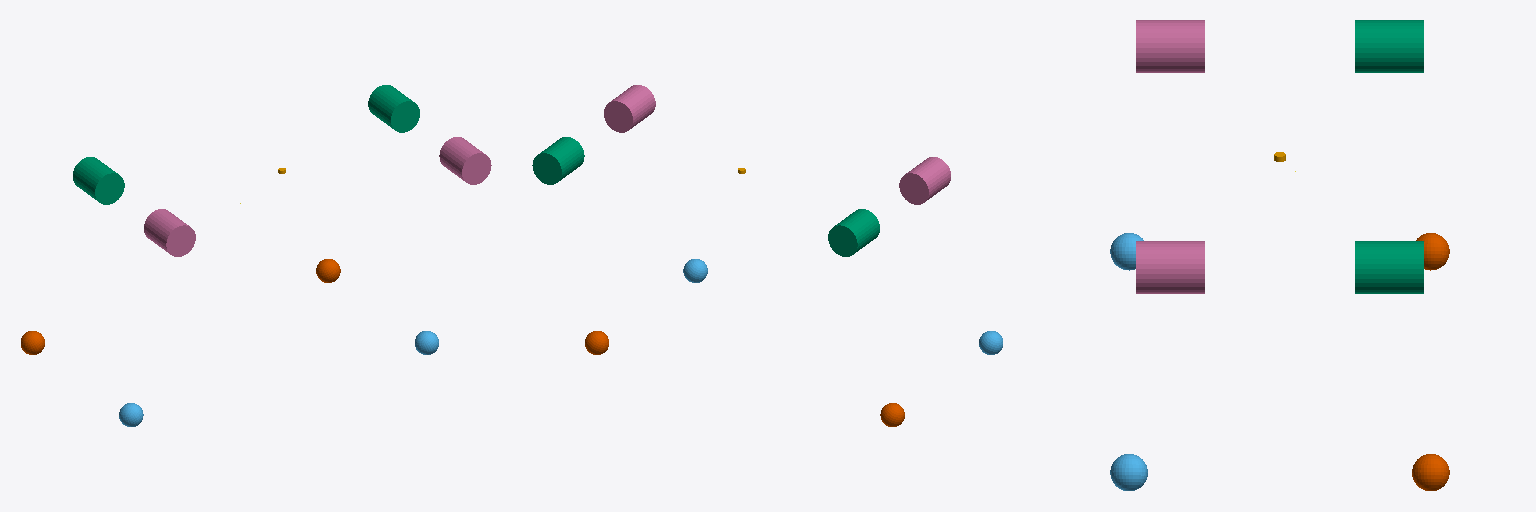
--- What the picture shows (computed from the rendered views, not written in the file) ---
Views: 3 orthographic renders of the robot side by side, from view 1: azimuth 30°, elevation 25°; view 2: azimuth 150°, elevation 25°; view 3: azimuth 270°, elevation 25°.
Robot: hyqreal — 43 links, 42 joints (12 revolute, 30 fixed); root link base_link; default pose: all joints at 0 but 8 set to mid-range because 0 is outside their limits (lf_hfe_joint = 1.22, lf_kfe_joint = -1.72, rf_hfe_joint = 1.22, rf_kfe_joint = -1.72, lh_hfe_joint = 1.22, lh_kfe_joint = -1.72, +2 more).
Links seen in each view (by area): view 1: rh_hipassembly, lf_hipassembly, rf_hipassembly, lh_hipassembly; view 2: lh_hipassembly, rf_hipassembly, lf_hipassembly, rh_hipassembly; view 3: lf_hipassembly, rf_hipassembly, lh_hipassembly, rh_hipassembly, lf_foot, rf_foot, lh_foot, rh_foot.
Link boxes in pixels (x1,y1,x2,y2): rh_hipassembly: [144, 209, 195, 256]; lf_hipassembly: [368, 85, 419, 132]; rf_hipassembly: [439, 137, 491, 184]; lh_hipassembly: [73, 157, 124, 204]; lh_hipassembly: [828, 209, 879, 256]; rf_hipassembly: [604, 85, 655, 132]; lf_hipassembly: [532, 137, 584, 184]; rh_hipassembly: [899, 157, 950, 204]; lf_hipassembly: [1355, 241, 1423, 293]; rf_hipassembly: [1136, 241, 1204, 293]; lh_hipassembly: [1355, 20, 1423, 72]; rh_hipassembly: [1136, 20, 1204, 72]; lf_foot: [1412, 454, 1449, 490]; rf_foot: [1110, 454, 1147, 490]; lh_foot: [1416, 233, 1449, 270]; rh_foot: [1110, 233, 1143, 270].
Bounding box of the posed robot: 1.12 × 0.576 × 0.5332 m (x, y, z).
Geometry: primitives only (box / cylinder / sphere), no mesh files.

The robot description file, URDF, robot "hyqreal":
<?xml version="1.0" ?>
<!-- =================================================================================== -->
<!-- |    This document was autogenerated by xacro from hyqreal.urdf.xacro             | -->
<!-- |    EDITING THIS FILE BY HAND IS NOT RECOMMENDED                                 | -->
<!-- =================================================================================== -->
<robot name="hyqreal" xmlns:xacro="http://ros.org/wiki/xacro">
  <!-- standard distances -->
  <!-- <xacro:property name="d_lr" value="0.414"/>
	<xacro:property name="d_fh" value="0.747"/> -->
  <!-- 0.887 1.4192-->
  <!-- ============================ IMU KVH 1775 ========================
         The xacro macro xacro:kvh_1775_imu describes the KVH 1775 IMU,
         together with its frames of reference.
         The IMU has three axes oriented along the diagonal of the mounting
         screws at the bottom, as described at page 6 of the technical manual.
         These axes have three different origins for the sensing points, one
         per axis. Therefore, we define a common origin which is located at the
         average of these three. For completeness, we include the three exact
         axes as well. -->
  <material name="aluminum">
    <color rgba="0.5 0.5 0.5 1"/>
  </material>
  <!--xacro:include filename="$(find sensors_description)/urdfs/sensors/vlp16.urdf.xacro"/-->
  <gazebo>
    <plugin filename="libgazebo_ros_control.so" name="gazebo_ros_controller_manager">
      <robotNamespace>/hyqreal</robotNamespace>
      <robotSimType>dls_gazebo_interface/DlsRobotHwSim</robotSimType>
      <controlPeriod>0.004</controlPeriod>
    </plugin>
    <plugin filename="libgazebo_ros_p3d.so" name="gazebo_ros_p3d">
      <robotNamespace>/hyqreal</robotNamespace>
      <bodyName>trunk</bodyName>
      <topicName>ground_truth</topicName>
      <frameName>world</frameName>
      <xyzOffsets>0 0 0</xyzOffsets>
      <rpyOffsets>0 0 0</rpyOffsets>
      <gaussianNoise>0</gaussianNoise>
      <alwaysOn>true</alwaysOn>
      <updateRate>250.0</updateRate>
    </plugin>
  </gazebo>
  <!-- Floating-base Joint -->
  <joint name="floating_base" type="fixed">
    <origin rpy="0 0 0" xyz="0 0 0"/>
    <parent link="base_link"/>
    <child link="trunk"/>
  </joint>
  <!-- Links -->
  <!-- Footprint link -->
  <link name="base_link">
    <visual>
      <geometry>
        <cylinder length="0.01" radius="0.01"/>
      </geometry>
    </visual>
  </link>
  <!-- Trunk link -->
  <link name="trunk">
    <inertial>
      <origin xyz="-0.015 -0.00186 -0.03465"/>
      <mass value="59"/>
      <inertia ixx="1.498728" ixy="-0.007369" ixz="-0.189135" iyy="9.492381" iyz="0.000185" izz="9.012359"/>
    </inertial>
    <visual>
      <origin rpy="0 0 3.14159265359" xyz="0 0 0"/>
    </visual>
    <collision>
      <origin rpy="0 0 3.14159265359" xyz="0 0 0"/>
    </collision>
  </link>
  <gazebo reference="trunk">
    <kp>100000000.0</kp>
    <kd>100.0</kd>
    <mu1>1.5</mu1>
    <mu2>1.5</mu2>
    <maxVel>1.0</maxVel>
    <maxContacts>10</maxContacts>
    <minDepth>0.00</minDepth>
  </gazebo>
  <sensor name="trunk_contact_sensor" type="contact">
    <always_on>true</always_on>
    <update_rate>100.0</update_rate>
    <contact>
      <collision>trunk_collision</collision>
    </contact>
    <plugin filename="libgazebo_ros_bumper.so" name="trunk_bumper">
      <bumperTopicName>/trunk_sensor</bumperTopicName>
      <frameName>base_link</frameName>
    </plugin>
  </sensor>
  <!-- Joints -->
  <!-- HAA joint -->
  <joint name="lf_haa_joint" type="revolute">
    <origin rpy="3.14159265359 1.5707963268 0" xyz="0.4435 0.139 0"/>
    <parent link="trunk"/>
    <child link="lf_hipassembly"/>
    <axis xyz="0 0 1"/>
    <dynamics damping="0.1" friction="0"/>
    <limit effort="173.0" lower="-0.733038285838" upper="0.401425727959" velocity="12.0"/>
    <safety_controller k_position="50" k_velocity="10" soft_lower_limit="-0.733038285838" soft_upper_limit="0.401425727959"/>
  </joint>
  <!-- HFE joint -->
  <joint name="lf_hfe_joint" type="revolute">
    <origin rpy="1.5707963268 0 0" xyz="0 -0.117 0"/>
    <parent link="lf_hipassembly"/>
    <child link="lf_upperleg"/>
    <axis xyz="0 0 1"/>
    <dynamics damping="0.1" friction="0"/>
    <limit effort="208" lower="0.261799387799" upper="2.18166156499" velocity="12.0"/>
    <safety_controller k_position="50" k_velocity="10" soft_lower_limit="0.261799387799" soft_upper_limit="2.18166156499"/>
  </joint>
  <!-- KFE joint -->
  <joint name="lf_kfe_joint" type="revolute">
    <origin rpy="0 0 0" xyz="0.36 0 0"/>
    <parent link="lf_upperleg"/>
    <child link="lf_lowerleg"/>
    <axis xyz="0 0 1"/>
    <dynamics damping="0.1" friction="0"/>
    <limit effort="249" lower="-2.77001205584" upper="-0.669857366915" velocity="12.0"/>
    <safety_controller k_position="50.0" k_velocity="10.0" soft_lower_limit="-2.77001205584" soft_upper_limit="-0.669857366915"/>
  </joint>
  <!-- Foot joint -->
  <joint name="lf_foot_joint" type="fixed">
    <origin rpy="1.5707963268 0 -1.5707963268" xyz="0.38 0 0"/>
    <parent link="lf_lowerleg"/>
    <child link="lf_foot"/>
  </joint>
  <!-- Links -->
  <!-- Hip assembly link -->
  <link name="lf_hipassembly">
    <inertial>
      <origin xyz="-0.010027 -0.010608 0.003644"/>
      <mass value="4.973275"/>
      <inertia ixx="0.011231" ixy="-0.000592" ixz="0.000225" iyy="0.015768" iyz="0.000224" izz="0.016863"/>
    </inertial>
    <visual>
      <origin rpy="0 -1.5707963268 -1.5707963268" xyz="0 -0.046 0"/>
      <geometry>
         --&gt;
				
        <cylinder length="0.117" radius="0.0444"/>
      </geometry>
    </visual>
  </link>
  <!-- Upper leg link -->
  <link name="lf_upperleg">
    <inertial>
      <origin xyz="0.107987 -0.011459 -0.002121"/>
      <mass value="5.877927"/>
      <inertia ixx="0.016432" ixy="0.001863" ixz="0.003897" iyy="0.075737" iyz="-0.00024" izz="0.079267"/>
    </inertial>
    <visual>
      <origin rpy="0 0 0" xyz="0 0 0"/>
    </visual>
    <collision>
      <origin rpy="0 0 0" xyz="0 0 0"/>
    </collision>
  </link>
  <!-- Lower leg link -->
  <link name="lf_lowerleg">
    <inertial>
      <origin xyz="0.149302 -0.003801 -0.000624"/>
      <mass value="1.291954"/>
      <inertia ixx="0.001088" ixy="-0.000572" ixz="0.000118" iyy="0.029215" iyz="0.00046" izz="0.029772"/>
    </inertial>
    <visual>
      <origin rpy="0 0 0" xyz="0 0 0"/>

      <material name="white"/>
    </visual>
    <collision>
      <origin rpy="0 0 0" xyz="0 0 0"/>
    </collision>
  </link>
  <!-- Foot link -->
  <link name="lf_foot">
    <visual>
      <origin rpy="0.0 0.0 0.0" xyz="0.0 0.0 0.0"/>
      <geometry>
        <sphere radius="0.032"/>
      </geometry>
      <material name="black"/>
    </visual>
    <collision>
      <origin rpy="0 0 0" xyz="0 0 0"/>
      <geometry>
        <sphere radius="0.032"/>
      </geometry>
    </collision>
  </link>
  <!-- Hip assembly -->
  <transmission name="lf_haa_trans">
    <type>transmission_interface/SimpleTransmission</type>
    <joint name="lf_haa_joint">
      <hardwareInterface>EffortJointInterface</hardwareInterface>
    </joint>
    <actuator name="lf_haa_motor">
      <mechanicalReduction>1</mechanicalReduction>
    </actuator>
  </transmission>
  <!-- Upper leg -->
  <transmission name="lf_hfe_trans">
    <type>transmission_interface/SimpleTransmission</type>
    <joint name="lf_hfe_joint">
      <hardwareInterface>EffortJointInterface</hardwareInterface>
    </joint>
    <actuator name="lf_hfe_motor">
      <mechanicalReduction>1</mechanicalReduction>
    </actuator>
  </transmission>
  <!-- Lower leg -->
  <transmission name="lf_kfe_trans">
    <type>transmission_interface/SimpleTransmission</type>
    <joint name="lf_kfe_joint">
      <hardwareInterface>EffortJointInterface</hardwareInterface>
    </joint>
    <actuator name="lf_kfe_motor">
      <mechanicalReduction>1</mechanicalReduction>
    </actuator>
  </transmission>
  <gazebo reference="lf_haa_joint">
    <provideFeedback>true</provideFeedback>
  </gazebo>
  <gazebo reference="lf_kfe_joint">
    <provideFeedback>true</provideFeedback>
  </gazebo>
  <gazebo reference="lf_hfe_joint">
    <provideFeedback>true</provideFeedback>
  </gazebo>
  <gazebo reference="lf_upperleg">
    <kp>100000000.0</kp>
    <kd>100.0</kd>
    <mu1>1.5</mu1>
    <mu2>1.5</mu2>
    <maxVel>1.0</maxVel>
    <minDepth>0.00</minDepth>
  </gazebo>
  <gazebo reference="lf_lowerleg">
    <kp>100000000.0</kp>
    <kd>100.0</kd>
    <mu1>1.0</mu1>
    <mu2>1.0</mu2>
    <maxVel>1.0</maxVel>
    <maxContacts>1</maxContacts>
    <minDepth>0.00</minDepth>
    <sensor name="lf_shin_contact_sensor" type="contact">
      <always_on>true</always_on>
      <update_rate>250.0</update_rate>
      <contact>
        <collision>lf_lowerleg_collision</collision>
      </contact>
      <!-- the sensor readings in terms of force torques are expressed in the lowerleg frame
                    because gazebo lumps the fake footframe with the real parent link, the normals are in the world frame-->
      <plugin filename="libgazebo_ros_bumper.so" name="lf_shin_bumper">
        <bumperTopicName>/hyqreal/lf_shin_bumper</bumperTopicName>
      </plugin>
    </sensor>
  </gazebo>
  <gazebo reference="lf_foot">
    <kp>1000000.0</kp>
    <kd>100.0</kd>
    <mu1>1.0</mu1>
    <mu2>1.0</mu2>
    <maxVel>1.0</maxVel>
    <maxContacts>1</maxContacts>
    <sensor name="lf_foot_contact_sensor" type="contact">
      <always_on>true</always_on>
      <update_rate>250.0</update_rate>
      <contact>
        <collision>lf_lowerleg_fixed_joint_lump__lf_foot_collision_1</collision>
      </contact>
      <!-- the sensor readings in terms of force torques are expressed in the lowerleg frame
                    because gazebo lumps the fake footframe with the real parent link, the normals are in the world frame-->
      <plugin filename="libgazebo_ros_bumper.so" name="lf_foot_bumper">
        <bumperTopicName>/hyqreal/lf_foot_bumper</bumperTopicName>
        <robotNamespace>hyqreal</robotNamespace>
      </plugin>
    </sensor>
    <material>Gazebo/Black</material>
  </gazebo>
  <!-- Joints -->
  <!-- HAA joint -->
  <joint name="rf_haa_joint" type="revolute">
    <origin rpy="0 1.5707963268 0" xyz="0.4435 -0.139 0"/>
    <parent link="trunk"/>
    <child link="rf_hipassembly"/>
    <axis xyz="0 0 1"/>
    <dynamics damping="0.1" friction="0"/>
    <limit effort="173.0" lower="-0.733038285838" upper="0.401425727959" velocity="12.0"/>
    <safety_controller k_position="50" k_velocity="10" soft_lower_limit="-0.733038285838" soft_upper_limit="0.401425727959"/>
  </joint>
  <!-- HFE joint -->
  <joint name="rf_hfe_joint" type="revolute">
    <origin rpy="-1.5707963268 0 0" xyz="0 -0.117 0"/>
    <parent link="rf_hipassembly"/>
    <child link="rf_upperleg"/>
    <axis xyz="0 0 1"/>
    <dynamics damping="0.1" friction="0"/>
    <limit effort="208" lower="0.261799387799" upper="2.18166156499" velocity="12.0"/>
    <safety_controller k_position="50" k_velocity="10" soft_lower_limit="0.261799387799" soft_upper_limit="2.18166156499"/>
  </joint>
  <!-- KFE joint -->
  <joint name="rf_kfe_joint" type="revolute">
    <origin rpy="0 0 0" xyz="0.36 0 0"/>
    <parent link="rf_upperleg"/>
    <child link="rf_lowerleg"/>
    <axis xyz="0 0 1"/>
    <dynamics damping="0.1" friction="0"/>
    <limit effort="249" lower="-2.77001205584" upper="-0.669857366915" velocity="12.0"/>
    <safety_controller k_position="50.0" k_velocity="10.0" soft_lower_limit="-2.77001205584" soft_upper_limit="-0.669857366915"/>
  </joint>
  <!-- Foot joint -->
  <joint name="rf_foot_joint" type="fixed">
    <origin rpy="1.5707963268 0 -1.5707963268" xyz="0.38 0 0"/>
    <parent link="rf_lowerleg"/>
    <child link="rf_foot"/>
  </joint>
  <!-- Links -->
  <!-- Hip assembly link -->
  <link name="rf_hipassembly">
    <inertial>
      <origin xyz="-0.010027 -0.010608 0.003644"/>
      <mass value="4.973275"/>
      <inertia ixx="0.011231" ixy="-0.000592" ixz="0.000225" iyy="0.015768" iyz="0.000224" izz="0.016863"/>
    </inertial>
    <visual>
      <origin rpy="0 -1.5707963268 -1.5707963268" xyz="0 -0.046 0"/>
      <geometry>
         --&gt;
				
        <cylinder length="0.117" radius="0.0444"/>
      </geometry>
    </visual>
  </link>
  <!-- Upper leg link -->
  <link name="rf_upperleg">
    <inertial>
      <origin xyz="0.107987 -0.011459 0.002121"/>
      <mass value="5.877927"/>
      <inertia ixx="0.016432" ixy="0.001863" ixz="-0.003897" iyy="0.075737" iyz="0.00024" izz="0.079267"/>
    </inertial>
    <visual>
      <origin rpy="0 0 0" xyz="0 0 0"/>
    </visual>
    <collision>
      <origin rpy="0 0 0" xyz="0 0 0"/>
    </collision>
  </link>
  <!-- Lower leg link -->
  <link name="rf_lowerleg">
    <inertial>
      <origin xyz="0.149302 -0.003801 -0.000624"/>
      <mass value="1.291954"/>
      <inertia ixx="0.001088" ixy="-0.000572" ixz="0.000118" iyy="0.029215" iyz="0.00046" izz="0.029772"/>
    </inertial>
    <visual>
      <origin rpy="0 0 0" xyz="0 0 0"/>
      <material name="white"/>
    </visual>
    <collision>
      <origin rpy="0 0 0" xyz="0 0 0"/>
    </collision>
  </link>
  <!-- Foot link -->
  <link name="rf_foot">
    <visual>
      <origin rpy="0.0 0.0 0.0" xyz="0.0 0.0 0.0"/>
      <geometry>
        <sphere radius="0.032"/>
      </geometry>
      <material name="black"/>
    </visual>
    <collision>
      <origin rpy="0 0 0" xyz="0 0 0"/>
      <geometry>
        <sphere radius="0.032"/>
      </geometry>
    </collision>
  </link>
  <!-- Hip assembly -->
  <transmission name="rf_haa_trans">
    <type>transmission_interface/SimpleTransmission</type>
    <joint name="rf_haa_joint">
      <hardwareInterface>EffortJointInterface</hardwareInterface>
    </joint>
    <actuator name="rf_haa_motor">
      <mechanicalReduction>1</mechanicalReduction>
    </actuator>
  </transmission>
  <!-- Upper leg -->
  <transmission name="rf_hfe_trans">
    <type>transmission_interface/SimpleTransmission</type>
    <joint name="rf_hfe_joint">
      <hardwareInterface>EffortJointInterface</hardwareInterface>
    </joint>
    <actuator name="rf_hfe_motor">
      <mechanicalReduction>1</mechanicalReduction>
    </actuator>
  </transmission>
  <!-- Lower leg -->
  <transmission name="rf_kfe_trans">
    <type>transmission_interface/SimpleTransmission</type>
    <joint name="rf_kfe_joint">
      <hardwareInterface>EffortJointInterface</hardwareInterface>
    </joint>
    <actuator name="rf_kfe_motor">
      <mechanicalReduction>1</mechanicalReduction>
    </actuator>
  </transmission>
  <gazebo reference="rf_haa_joint">
    <provideFeedback>true</provideFeedback>
  </gazebo>
  <gazebo reference="rf_kfe_joint">
    <provideFeedback>true</provideFeedback>
  </gazebo>
  <gazebo reference="rf_hfe_joint">
    <provideFeedback>true</provideFeedback>
  </gazebo>
  <gazebo reference="rf_upperleg">
    <kp>100000000.0</kp>
    <kd>100.0</kd>
    <mu1>1.5</mu1>
    <mu2>1.5</mu2>
    <maxVel>1.0</maxVel>
    <minDepth>0.00</minDepth>
  </gazebo>
  <gazebo reference="rf_lowerleg">
    <kp>100000000.0</kp>
    <kd>100.0</kd>
    <mu1>1.0</mu1>
    <mu2>1.0</mu2>
    <maxVel>1.0</maxVel>
    <maxContacts>1</maxContacts>
    <minDepth>0.00</minDepth>
    <sensor name="rf_shin_contact_sensor" type="contact">
      <always_on>true</always_on>
      <update_rate>250.0</update_rate>
      <contact>
        <collision>rf_lowerleg_collision</collision>
      </contact>
      <!-- the sensor readings in terms of force torques are expressed in the lowerleg frame
                    because gazebo lumps the fake footframe with the real parent link, the normals are in the world frame-->
      <plugin filename="libgazebo_ros_bumper.so" name="rf_shin_bumper">
        <bumperTopicName>/hyqreal/rf_shin_bumper</bumperTopicName>
      </plugin>
    </sensor>
  </gazebo>
  <gazebo reference="rf_foot">
    <kp>1000000.0</kp>
    <kd>100.0</kd>
    <mu1>1.0</mu1>
    <mu2>1.0</mu2>
    <maxVel>1.0</maxVel>
    <maxContacts>1</maxContacts>
    <sensor name="rf_foot_contact_sensor" type="contact">
      <always_on>true</always_on>
      <update_rate>250.0</update_rate>
      <contact>
        <collision>rf_lowerleg_fixed_joint_lump__rf_foot_collision_1</collision>
      </contact>
      <!-- the sensor readings in terms of force torques are expressed in the lowerleg frame
                    because gazebo lumps the fake footframe with the real parent link, the normals are in the world frame-->
      <plugin filename="libgazebo_ros_bumper.so" name="rf_foot_bumper">
        <bumperTopicName>/hyqreal/rf_foot_bumper</bumperTopicName>
        <robotNamespace>hyqreal</robotNamespace>
      </plugin>
    </sensor>
    <material>Gazebo/Black</material>
  </gazebo>
  <!-- Joints -->
  <!-- HAA joint -->
  <joint name="lh_haa_joint" type="revolute">
    <origin rpy="3.14159265359 1.5707963268 0" xyz="-0.4435 0.139 0"/>
    <parent link="trunk"/>
    <child link="lh_hipassembly"/>
    <axis xyz="0 0 1"/>
    <dynamics damping="0.1" friction="0"/>
    <limit effort="173.0" lower="-0.733038285838" upper="0.401425727959" velocity="12.0"/>
    <safety_controller k_position="50" k_velocity="10" soft_lower_limit="-0.733038285838" soft_upper_limit="0.401425727959"/>
  </joint>
  <!-- HFE joint -->
  <joint name="lh_hfe_joint" type="revolute">
    <origin rpy="1.5707963268 0 0" xyz="0 -0.117 0"/>
    <parent link="lh_hipassembly"/>
    <child link="lh_upperleg"/>
    <axis xyz="0 0 1"/>
    <dynamics damping="0.1" friction="0"/>
    <limit effort="208" lower="0.261799387799" upper="2.18166156499" velocity="12.0"/>
    <safety_controller k_position="50" k_velocity="10" soft_lower_limit="0.261799387799" soft_upper_limit="2.18166156499"/>
  </joint>
  <!-- KFE joint -->
  <joint name="lh_kfe_joint" type="revolute">
    <origin rpy="0 0 0" xyz="0.36 0 0"/>
    <parent link="lh_upperleg"/>
    <child link="lh_lowerleg"/>
    <axis xyz="0 0 1"/>
    <dynamics damping="0.1" friction="0"/>
    <limit effort="249" lower="-2.77001205584" upper="-0.669857366915" velocity="12.0"/>
    <safety_controller k_position="50.0" k_velocity="10.0" soft_lower_limit="-2.77001205584" soft_upper_limit="-0.669857366915"/>
  </joint>
  <!-- Foot joint -->
  <joint name="lh_foot_joint" type="fixed">
    <origin rpy="1.5707963268 0 -1.5707963268" xyz="0.38 0 0"/>
    <parent link="lh_lowerleg"/>
    <child link="lh_foot"/>
  </joint>
  <!-- Links -->
  <!-- Hip assembly link -->
  <link name="lh_hipassembly">
    <inertial>
      <origin xyz="-0.010027 -0.010608 0.003644"/>
      <mass value="4.973275"/>
      <inertia ixx="0.011231" ixy="-0.000592" ixz="0.000225" iyy="0.015768" iyz="0.000224" izz="0.016863"/>
    </inertial>
    <visual>
      <origin rpy="0 -1.5707963268 -1.5707963268" xyz="0 -0.046 0"/>
      <geometry>
         --&gt;
				
        <cylinder length="0.117" radius="0.0444"/>
      </geometry>
    </visual>
  </link>
  <!-- Upper leg link -->
  <link name="lh_upperleg">
    <inertial>
      <origin xyz="0.107987 -0.011459 -0.002121"/>
      <mass value="5.877927"/>
      <inertia ixx="0.016432" ixy="0.001863" ixz="0.003897" iyy="0.075737" iyz="-0.00024" izz="0.079267"/>
    </inertial>
    <visual>
      <origin rpy="0 0 0" xyz="0 0 0"/>
    </visual>
    <collision>
      <origin rpy="0 0 0" xyz="0 0 0"/>
    </collision>
  </link>
  <!-- Lower leg link -->
  <link name="lh_lowerleg">
    <inertial>
      <origin xyz="0.149302 -0.003801 -0.000624"/>
      <mass value="1.291954"/>
      <inertia ixx="0.001088" ixy="-0.000572" ixz="0.000118" iyy="0.029215" iyz="0.00046" izz="0.029772"/>
    </inertial>
    <visual>
      <origin rpy="0 0 0" xyz="0 0 0"/>
      <material name="white"/>
    </visual>
    <collision>
      <origin rpy="0 0 0" xyz="0 0 0"/>
    </collision>
  </link>
  <!-- Foot link -->
  <link name="lh_foot">
    <visual>
      <origin rpy="0.0 0.0 0.0" xyz="0.0 0.0 0.0"/>
      <geometry>
        <sphere radius="0.032"/>
      </geometry>
      <material name="black"/>
    </visual>
    <collision>
      <origin rpy="0 0 0" xyz="0 0 0"/>
      <geometry>
        <sphere radius="0.032"/>
      </geometry>
    </collision>
  </link>
  <!-- Hip assembly -->
  <transmission name="lh_haa_trans">
    <type>transmission_interface/SimpleTransmission</type>
    <joint name="lh_haa_joint">
      <hardwareInterface>EffortJointInterface</hardwareInterface>
    </joint>
    <actuator name="lh_haa_motor">
      <mechanicalReduction>1</mechanicalReduction>
    </actuator>
  </transmission>
  <!-- Upper leg -->
  <transmission name="lh_hfe_trans">
    <type>transmission_interface/SimpleTransmission</type>
    <joint name="lh_hfe_joint">
      <hardwareInterface>EffortJointInterface</hardwareInterface>
    </joint>
    <actuator name="lh_hfe_motor">
      <mechanicalReduction>1</mechanicalReduction>
    </actuator>
  </transmission>
  <!-- Lower leg -->
  <transmission name="lh_kfe_trans">
    <type>transmission_interface/SimpleTransmission</type>
    <joint name="lh_kfe_joint">
      <hardwareInterface>EffortJointInterface</hardwareInterface>
    </joint>
    <actuator name="lh_kfe_motor">
      <mechanicalReduction>1</mechanicalReduction>
    </actuator>
  </transmission>
  <gazebo reference="lh_haa_joint">
    <provideFeedback>true</provideFeedback>
  </gazebo>
  <gazebo reference="lh_kfe_joint">
    <provideFeedback>true</provideFeedback>
  </gazebo>
  <gazebo reference="lh_hfe_joint">
    <provideFeedback>true</provideFeedback>
  </gazebo>
  <gazebo reference="lh_upperleg">
    <kp>100000000.0</kp>
    <kd>100.0</kd>
    <mu1>1.5</mu1>
    <mu2>1.5</mu2>
    <maxVel>1.0</maxVel>
    <minDepth>0.00</minDepth>
  </gazebo>
  <gazebo reference="lh_lowerleg">
    <kp>100000000.0</kp>
    <kd>100.0</kd>
    <mu1>1.0</mu1>
    <mu2>1.0</mu2>
    <maxVel>1.0</maxVel>
    <maxContacts>1</maxContacts>
    <minDepth>0.00</minDepth>
    <sensor name="lh_shin_contact_sensor" type="contact">
      <always_on>true</always_on>
      <update_rate>250.0</update_rate>
      <contact>
        <collision>lh_lowerleg_collision</collision>
      </contact>
      <!-- the sensor readings in terms of force torques are expressed in the lowerleg frame
                    because gazebo lumps the fake footframe with the real parent link, the normals are in the world frame-->
      <plugin filename="libgazebo_ros_bumper.so" name="lh_shin_bumper">
        <bumperTopicName>/hyqreal/lh_shin_bumper</bumperTopicName>
      </plugin>
    </sensor>
  </gazebo>
  <gazebo reference="lh_foot">
    <kp>1000000.0</kp>
    <kd>100.0</kd>
    <mu1>1.0</mu1>
    <mu2>1.0</mu2>
    <maxVel>1.0</maxVel>
    <maxContacts>1</maxContacts>
    <sensor name="lh_foot_contact_sensor" type="contact">
      <always_on>true</always_on>
      <update_rate>250.0</update_rate>
      <contact>
        <collision>lh_lowerleg_fixed_joint_lump__lh_foot_collision_1</collision>
      </contact>
      <!-- the sensor readings in terms of force torques are expressed in the lowerleg frame
                    because gazebo lumps the fake footframe with the real parent link, the normals are in the world frame-->
      <plugin filename="libgazebo_ros_bumper.so" name="lh_foot_bumper">
        <bumperTopicName>/hyqreal/lh_foot_bumper</bumperTopicName>
        <robotNamespace>hyqreal</robotNamespace>
      </plugin>
    </sensor>
    <material>Gazebo/Black</material>
  </gazebo>
  <!-- Joints -->
  <!-- HAA joint -->
  <joint name="rh_haa_joint" type="revolute">
    <origin rpy="0 1.5707963268 0" xyz="-0.4435 -0.139 0"/>
    <parent link="trunk"/>
    <child link="rh_hipassembly"/>
    <axis xyz="0 0 1"/>
    <dynamics damping="0.1" friction="0"/>
    <limit effort="173.0" lower="-0.733038285838" upper="0.401425727959" velocity="12.0"/>
    <safety_controller k_position="50" k_velocity="10" soft_lower_limit="-0.733038285838" soft_upper_limit="0.401425727959"/>
  </joint>
  <!-- HFE joint -->
  <joint name="rh_hfe_joint" type="revolute">
    <origin rpy="-1.5707963268 0 0" xyz="0 -0.117 0"/>
    <parent link="rh_hipassembly"/>
    <child link="rh_upperleg"/>
    <axis xyz="0 0 1"/>
    <dynamics damping="0.1" friction="0"/>
    <limit effort="208" lower="0.261799387799" upper="2.18166156499" velocity="12.0"/>
    <safety_controller k_position="50" k_velocity="10" soft_lower_limit="0.261799387799" soft_upper_limit="2.18166156499"/>
  </joint>
  <!-- KFE joint -->
  <joint name="rh_kfe_joint" type="revolute">
    <origin rpy="0 0 0" xyz="0.36 0 0"/>
    <parent link="rh_upperleg"/>
    <child link="rh_lowerleg"/>
    <axis xyz="0 0 1"/>
    <dynamics damping="0.1" friction="0"/>
    <limit effort="249" lower="-2.77001205584" upper="-0.669857366915" velocity="12.0"/>
    <safety_controller k_position="50.0" k_velocity="10.0" soft_lower_limit="-2.77001205584" soft_upper_limit="-0.669857366915"/>
  </joint>
  <!-- Foot joint -->
  <joint name="rh_foot_joint" type="fixed">
    <origin rpy="1.5707963268 0 -1.5707963268" xyz="0.38 0 0"/>
    <parent link="rh_lowerleg"/>
    <child link="rh_foot"/>
  </joint>
  <!-- Links -->
  <!-- Hip assembly link -->
  <link name="rh_hipassembly">
    <inertial>
      <origin xyz="-0.010027 -0.010608 0.003644"/>
      <mass value="4.973275"/>
      <inertia ixx="0.011231" ixy="-0.000592" ixz="0.000225" iyy="0.015768" iyz="0.000224" izz="0.016863"/>
    </inertial>
    <visual>
      <origin rpy="0 -1.5707963268 -1.5707963268" xyz="0 -0.046 0"/>
      <geometry>
         --&gt;
				
        <cylinder length="0.117" radius="0.0444"/>
      </geometry>
    </visual>
  </link>
  <!-- Upper leg link -->
  <link name="rh_upperleg">
    <inertial>
      <origin xyz="0.107987 -0.011459 0.002121"/>
      <mass value="5.877927"/>
      <inertia ixx="0.016432" ixy="0.001863" ixz="-0.003897" iyy="0.075737" iyz="0.00024" izz="0.079267"/>
    </inertial>
    <visual>
      <origin rpy="0 0 0" xyz="0 0 0"/>
    </visual>
    <collision>
      <origin rpy="0 0 0" xyz="0 0 0"/>
    </collision>
  </link>
  <!-- Lower leg link -->
  <link name="rh_lowerleg">
    <inertial>
      <origin xyz="0.149302 -0.003801 -0.000624"/>
      <mass value="1.291954"/>
      <inertia ixx="0.001088" ixy="-0.000572" ixz="0.000118" iyy="0.029215" iyz="0.00046" izz="0.029772"/>
    </inertial>
    <visual>
      <origin rpy="0 0 0" xyz="0 0 0"/>
      <material name="white"/>
    </visual>
    <collision>
      <origin rpy="0 0 0" xyz="0 0 0"/>
    </collision>
  </link>
  <!-- Foot link -->
  <link name="rh_foot">
    <visual>
      <origin rpy="0.0 0.0 0.0" xyz="0.0 0.0 0.0"/>
      <geometry>
        <sphere radius="0.032"/>
      </geometry>
      <material name="black"/>
    </visual>
    <collision>
      <origin rpy="0 0 0" xyz="0 0 0"/>
      <geometry>
        <sphere radius="0.032"/>
      </geometry>
    </collision>
  </link>
  <!-- Hip assembly -->
  <transmission name="rh_haa_trans">
    <type>transmission_interface/SimpleTransmission</type>
    <joint name="rh_haa_joint">
      <hardwareInterface>EffortJointInterface</hardwareInterface>
    </joint>
    <actuator name="rh_haa_motor">
      <mechanicalReduction>1</mechanicalReduction>
    </actuator>
  </transmission>
  <!-- Upper leg -->
  <transmission name="rh_hfe_trans">
    <type>transmission_interface/SimpleTransmission</type>
    <joint name="rh_hfe_joint">
      <hardwareInterface>EffortJointInterface</hardwareInterface>
    </joint>
    <actuator name="rh_hfe_motor">
      <mechanicalReduction>1</mechanicalReduction>
    </actuator>
  </transmission>
  <!-- Lower leg -->
  <transmission name="rh_kfe_trans">
    <type>transmission_interface/SimpleTransmission</type>
    <joint name="rh_kfe_joint">
      <hardwareInterface>EffortJointInterface</hardwareInterface>
    </joint>
    <actuator name="rh_kfe_motor">
      <mechanicalReduction>1</mechanicalReduction>
    </actuator>
  </transmission>
  <gazebo reference="rh_haa_joint">
    <provideFeedback>true</provideFeedback>
  </gazebo>
  <gazebo reference="rh_kfe_joint">
    <provideFeedback>true</provideFeedback>
  </gazebo>
  <gazebo reference="rh_hfe_joint">
    <provideFeedback>true</provideFeedback>
  </gazebo>
  <gazebo reference="rh_upperleg">
    <kp>100000000.0</kp>
    <kd>100.0</kd>
    <mu1>1.5</mu1>
    <mu2>1.5</mu2>
    <maxVel>1.0</maxVel>
    <minDepth>0.00</minDepth>
  </gazebo>
  <gazebo reference="rh_lowerleg">
    <kp>100000000.0</kp>
    <kd>100.0</kd>
    <mu1>1.0</mu1>
    <mu2>1.0</mu2>
    <maxVel>1.0</maxVel>
    <maxContacts>1</maxContacts>
    <minDepth>0.00</minDepth>
    <sensor name="rh_shin_contact_sensor" type="contact">
      <always_on>true</always_on>
      <update_rate>250.0</update_rate>
      <contact>
        <collision>rh_lowerleg_collision</collision>
      </contact>
      <!-- the sensor readings in terms of force torques are expressed in the lowerleg frame
                    because gazebo lumps the fake footframe with the real parent link, the normals are in the world frame-->
      <plugin filename="libgazebo_ros_bumper.so" name="rh_shin_bumper">
        <bumperTopicName>/hyqreal/rh_shin_bumper</bumperTopicName>
      </plugin>
    </sensor>
  </gazebo>
  <gazebo reference="rh_foot">
    <kp>1000000.0</kp>
    <kd>100.0</kd>
    <mu1>1.0</mu1>
    <mu2>1.0</mu2>
    <maxVel>1.0</maxVel>
    <maxContacts>1</maxContacts>
    <sensor name="rh_foot_contact_sensor" type="contact">
      <always_on>true</always_on>
      <update_rate>250.0</update_rate>
      <contact>
        <collision>rh_lowerleg_fixed_joint_lump__rh_foot_collision_1</collision>
      </contact>
      <!-- the sensor readings in terms of force torques are expressed in the lowerleg frame
                    because gazebo lumps the fake footframe with the real parent link, the normals are in the world frame-->
      <plugin filename="libgazebo_ros_bumper.so" name="rh_foot_bumper">
        <bumperTopicName>/hyqreal/rh_foot_bumper</bumperTopicName>
        <robotNamespace>hyqreal</robotNamespace>
      </plugin>
    </sensor>
    <material>Gazebo/Black</material>
  </gazebo>
  <!-- Joint connecting the mount point of the IMU to the robot -->
  <joint name="trunk_imu_mount_joint" type="fixed">
    <origin rpy="3.14159265359 0 0" xyz="-0.1098 0 -0.045"/>
    <parent link="trunk"/>
    <child link="trunk_imu_mount"/>
  </joint>
  <!-- Fake joint connecting the mount point of the IMU to the
                     average sensing frame of the IMU -->
  <joint name="trunk_imu_joint" type="fixed">
    <origin rpy="0 0 0" xyz="-0.017066667 -0.013 0.038366667"/>
    <parent link="trunk_imu_mount"/>
    <child link="trunk_imu"/>
  </joint>
  <!-- Fake joint connecting the mount point of the IMU to
                     the sensing point for the x-axis -->
  <joint name="trunk_imu_sensing_point_x_joint" type="fixed">
    <origin rpy="0 0 0" xyz="0 -0.0263 0.0336"/>
    <parent link="trunk_imu_mount"/>
    <child link="trunk_imu_sensing_point_x"/>
  </joint>
  <!-- Fake joint connecting the mount point of the IMU to
                     the sensing point for the x-axis -->
  <joint name="trunk_imu_sensing_point_y_joint" type="fixed">
    <origin rpy="0 0 0" xyz="-0.0256 -0.0121 0.0372"/>
    <parent link="trunk_imu_mount"/>
    <child link="trunk_imu_sensing_point_y"/>
  </joint>
  <!-- Fake joint connecting the mount point of the IMU to
                the sensing point for the x-axis -->
  <joint name="trunk_imu_sensing_point_z_joint" type="fixed">
    <origin rpy="0 0 0" xyz="-0.0256 -0.0006 0.0443"/>
    <parent link="trunk_imu_mount"/>
    <child link="trunk_imu_sensing_point_z"/>
  </joint>
  <!-- Fake link expressing the average sensing reference frame -->
  <link name="trunk_imu">
    <inertial>
      <mass value="0.000"/>
      <origin rpy="0 0 0" xyz="0 0 0"/>
      <inertia ixx="0.00" ixy="0.0" ixz="0.0" iyy="0.00" iyz="0.0" izz="0.00"/>
    </inertial>
    <visual>
      <!-- fake visual to let URDF parser happy -->
      <geometry>
        <sphere radius="0.0005"/>
      </geometry>
    </visual>
  </link>
  <!-- Fake link exactly located at the sensing point for the x-axis -->
  <link name="trunk_imu_sensing_point_x">
    <inertial>
      <mass value="0.000"/>
      <origin rpy="0 0 0" xyz="0 0 0"/>
      <inertia ixx="0.00" ixy="0.0" ixz="0.0" iyy="0.00" iyz="0.0" izz="0.00"/>
    </inertial>
    <visual>
      <!-- fake visual to let URDF parser happy -->
      <geometry>
        <sphere radius="0.0005"/>
      </geometry>
    </visual>
  </link>
  <!-- Fake link expressing the exact sensing point for the y-axis -->
  <link name="trunk_imu_sensing_point_y">
    <inertial>
      <mass value="0.000"/>
      <origin rpy="0 0 0" xyz="0 0 0"/>
      <inertia ixx="0.00" ixy="0.0" ixz="0.0" iyy="0.00" iyz="0.0" izz="0.00"/>
    </inertial>
    <visual>
      <!-- fake visual to let URDF parser happy -->
      <geometry>
        <sphere radius="0.0005"/>
      </geometry>
    </visual>
  </link>
  <!-- Fake link expressing the exact sensing point for the z-axis -->
  <link name="trunk_imu_sensing_point_z">
    <inertial>
      <mass value="0.000"/>
      <origin rpy="0 0 0" xyz="0 0 0"/>
      <inertia ixx="0.00" ixy="0.0" ixz="0.0" iyy="0.00" iyz="0.0" izz="0.00"/>
    </inertial>
    <visual>
      <!-- fake visual to let URDF parser happy -->
      <geometry>
        <sphere radius="0.0005"/>
      </geometry>
    </visual>
  </link>
  <!-- Link -->
  <link name="trunk_imu_mount">
    <inertial>
      <!-- CoM from technical document, rotated by pi/4 -->
      <origin xyz="-0.001697056  -0.001414214  0.0328"/>
      <mass value="0.69"/>
      <!-- izz = 0.5 * 0.69 * (88.9 / 2 / 1000)^2 -->
      <!-- ixx = iyy = 1/12*0.69*(3*(88.9/2000)^2+(73.7/1000)^2) -->
      <inertia ixx="0.000653148" ixy="0.0" ixz="0.0" iyy="0.000653148" iyz="0.0" izz="0.000681652"/>
    </inertial>
    <visual>
      <origin rpy="0 0 0" xyz="0.0 0.0 0.0"/>
      <material name="aluminium">
        <color rgba="0.35 0.35 0.35 1"/>
      </material>
    </visual>
  </link>
  <gazebo>
    <plugin filename="libgazebo_ros_imu.so" name="trunk_imu_controller">
      <alwaysOn>true</alwaysOn>
      <updateRate>250</updateRate>
      <bodyName>trunk_imu</bodyName>
      <topicName>trunk_imu/data</topicName>
      <gaussianNoise>4e-08</gaussianNoise>
      <xyzOffset>0 0 0</xyzOffset>
      <rpyOffset>0 0 0</rpyOffset>
      <serviceName>/trunk_imu</serviceName>
      <frameName>trunk_imu</frameName>
    </plugin>
  </gazebo>
  <!-- Imu definition required for DLS hardware interface of ros control -->
  <gazebo reference="trunk_imu">
    <sensor name="trunk_imu" type="imu">
      <always_on>1</always_on>
      <update_rate>250</update_rate>
      <imu>
        <noise>
          <type>gaussian</type>
          <rate>
            <mean>0</mean>
            <stddev>0.0002</stddev>
            <bias_mean>0.00087</bias_mean>
            <bias_stddev>8e-07</bias_stddev>
          </rate>
          <accel>
            <mean>0</mean>
            <stddev>0.017</stddev>
            <bias_mean>0.002</bias_mean>
            <bias_stddev>0.001</bias_stddev>
          </accel>
        </noise>
      </imu>
    </sensor>
  </gazebo>
  <!-- camera body, with origin at bottom screw mount -->
  <joint name="realsense/front/trunkcamera_joint" type="fixed">
    <origin rpy="-0.005878588 0.7692766 -0.01176524" xyz="0.6958928 0.01937854 -0.0968919"/>
    <parent link="trunk"/>
    <child link="realsense/front/camera_bottom_screw_frame"/>
  </joint>
  <link name="realsense/front/camera_bottom_screw_frame"/>
  <joint name="realsense/front/camera_link_joint" type="fixed">
    <origin rpy="0 0 0" xyz="0 0.0175 0.0125"/>
    <parent link="realsense/front/camera_bottom_screw_frame"/>
    <child link="realsense/front/camera_link"/>
  </joint>
  <link name="realsense/front/camera_link">
    <visual>
      <origin rpy="1.57079632679 0 1.57079632679" xyz="0.0149 -0.0175 0"/>
      <material name="aluminum"/>
    </visual>
    <collision>
      <!--origin xyz="0.0 0.0 ${r430_cam_height/2}" rpy="0 0 0"/-->
      <origin rpy="0 0 0" xyz="0 -0.0175 0"/>
      <geometry>
        <box size="0.02505 0.09 0.025"/>
      </geometry>
    </collision>
    <!-- The following are not reliable values, and should not be used for modeling -->
    <inertial>
      <mass value="0.564"/>
      <origin xyz="0 0 0"/>
      <inertia ixx="0.003881243" ixy="0.0" ixz="0.0" iyy="0.000498940" iyz="0.0" izz="0.003879257"/>
    </inertial>
  </link>
  <!-- camera depth joints and links -->
  <joint name="realsense/front/camera_depth_joint" type="fixed">
    <origin rpy="0 0 0" xyz="0 0 0"/>
    <parent link="realsense/front/camera_link"/>
    <child link="realsense/front/camera_depth_frame"/>
  </joint>
  <link name="realsense/front/camera_depth_frame"/>
  <joint name="realsense/front/camera_depth_optical_joint" type="fixed">
    <origin rpy="-1.57079632679 0 -1.57079632679" xyz="0 0 0"/>
    <parent link="realsense/front/camera_depth_frame"/>
    <child link="realsense/front/camera_depth_optical_frame"/>
  </joint>
  <link name="realsense/front/camera_depth_optical_frame"/>
  <!-- camera left IR joints and links -->
  <joint name="realsense/front/camera_left_ir_joint" type="fixed">
    <origin rpy="0 0 0" xyz="0 0.0 0"/>
    <parent link="realsense/front/camera_depth_frame"/>
    <child link="realsense/front/camera_left_ir_frame"/>
  </joint>
  <link name="realsense/front/camera_left_ir_frame"/>
  <joint name="realsense/front/camera_left_ir_optical_joint" type="fixed">
    <origin rpy="-1.57079632679 0 -1.57079632679" xyz="0 0 0"/>
    <parent link="realsense/front/camera_left_ir_frame"/>
    <child link="realsense/front/camera_left_ir_optical_frame"/>
  </joint>
  <link name="realsense/front/camera_left_ir_optical_frame"/>
  <!-- camera right IR joints and links -->
  <joint name="realsense/front/camera_right_ir_joint" type="fixed">
    <origin rpy="0 0 0" xyz="0 -0.05 0"/>
    <parent link="realsense/front/camera_depth_frame"/>
    <child link="realsense/front/camera_right_ir_frame"/>
  </joint>
  <link name="realsense/front/camera_right_ir_frame"/>
  <joint name="realsense/front/camera_right_ir_optical_joint" type="fixed">
    <origin rpy="-1.57079632679 0 -1.57079632679" xyz="0 0 0"/>
    <parent link="realsense/front/camera_right_ir_frame"/>
    <child link="realsense/front/camera_right_ir_optical_frame"/>
  </joint>
  <link name="realsense/front/camera_right_ir_optical_frame"/>
  <!-- camera color joints and links -->
  <joint name="realsense/front/camera_color_joint" type="fixed">
    <origin rpy="0 0 0" xyz="0 0.015 0"/>
    <parent link="realsense/front/camera_depth_frame"/>
    <child link="realsense/front/camera_color_frame"/>
  </joint>
  <link name="realsense/front/camera_color_frame"/>
  <joint name="realsense/front/camera_color_optical_joint" type="fixed">
    <origin rpy="-1.57079632679 0 -1.57079632679" xyz="0 0 0"/>
    <parent link="realsense/front/camera_color_frame"/>
    <child link="realsense/front/camera_color_optical_frame"/>
  </joint>
  <link name="realsense/front/camera_color_optical_frame"/>
  <gazebo reference="realsense/front/camera_depth_frame">
    <sensor name="realsense/front/camera_depth_frame_depth_sensor" type="depth">
      <always_on>true</always_on>
      <update_rate>30.0</update_rate>
      <camera name="__default__">
        <horizontal_fov>1.047</horizontal_fov>
        <image>
          <format>R8G8B8</format>
          <width>640</width>
          <height>480</height>
        </image>
        <clip>
          <near>0.1</near>
          <far>100</far>
        </clip>
      </camera>
      <plugin filename="libgazebo_ros_openni_kinect.so" name="realsense/front/camera_depth_frame_controller">
        <baseline>0.2</baseline>
        <alwaysOn>true</alwaysOn>
        <updateRate>0</updateRate>
        <cameraName>/realsense/front/camera</cameraName>
        <imageTopicName>/realsense/front/camera/rgb/image_raw</imageTopicName>
        <cameraInfoTopicName>/realsense/front/camera/rgb/camera_info</cameraInfoTopicName>
        <depthImageTopicName>/realsense/front/camera/depth/image_raw</depthImageTopicName>
        <depthImageCameraInfoTopicName>/realsense/front/camera/depth/camera_info</depthImageCameraInfoTopicName>
        <pointCloudTopicName>/realsense/front/camera/depth/points</pointCloudTopicName>
        <frameName>realsense/front/camera_depth_optical_frame</frameName>
        <pointCloudCutoff>0.1</pointCloudCutoff>
        <distortionK1>0.00000001</distortionK1>
        <distortionK2>0.00000001</distortionK2>
        <distortionK3>0.00000001</distortionK3>
        <distortionT1>0.00000001</distortionT1>
        <distortionT2>0.00000001</distortionT2>
        <CxPrime>0</CxPrime>
        <Cx>0</Cx>
        <Cy>0</Cy>
        <focalLength>0</focalLength>
        <hackBaseline>0</hackBaseline>
      </plugin>
    </sensor>
    <material value="Gazebo/Red"/>
  </gazebo>
  <!-- camera body, with origin at bottom screw mount -->
  <joint name="realsense/back/trunkcamera_joint" type="fixed">
    <origin rpy="0 0.785398163398 3.14159" xyz="-0.499873 -0.0000425 -0.109535"/>
    <parent link="trunk"/>
    <child link="realsense/back/camera_bottom_screw_frame"/>
  </joint>
  <link name="realsense/back/camera_bottom_screw_frame"/>
  <joint name="realsense/back/camera_link_joint" type="fixed">
    <origin rpy="0 0 0" xyz="0 0.0175 0.0125"/>
    <parent link="realsense/back/camera_bottom_screw_frame"/>
    <child link="realsense/back/camera_link"/>
  </joint>
  <link name="realsense/back/camera_link">
    <visual>
      <origin rpy="1.57079632679 0 1.57079632679" xyz="0.0149 -0.0175 0"/>
      <material name="aluminum"/>
    </visual>
    <collision>
      <!--origin xyz="0.0 0.0 ${r430_cam_height/2}" rpy="0 0 0"/-->
      <origin rpy="0 0 0" xyz="0 -0.0175 0"/>
      <geometry>
        <box size="0.02505 0.09 0.025"/>
      </geometry>
    </collision>
    <!-- The following are not reliable values, and should not be used for modeling -->
    <inertial>
      <mass value="0.564"/>
      <origin xyz="0 0 0"/>
      <inertia ixx="0.003881243" ixy="0.0" ixz="0.0" iyy="0.000498940" iyz="0.0" izz="0.003879257"/>
    </inertial>
  </link>
  <!-- camera depth joints and links -->
  <joint name="realsense/back/camera_depth_joint" type="fixed">
    <origin rpy="0 0 0" xyz="0 0 0"/>
    <parent link="realsense/back/camera_link"/>
    <child link="realsense/back/camera_depth_frame"/>
  </joint>
  <link name="realsense/back/camera_depth_frame"/>
  <joint name="realsense/back/camera_depth_optical_joint" type="fixed">
    <origin rpy="-1.57079632679 0 -1.57079632679" xyz="0 0 0"/>
    <parent link="realsense/back/camera_depth_frame"/>
    <child link="realsense/back/camera_depth_optical_frame"/>
  </joint>
  <link name="realsense/back/camera_depth_optical_frame"/>
  <!-- camera left IR joints and links -->
  <joint name="realsense/back/camera_left_ir_joint" type="fixed">
    <origin rpy="0 0 0" xyz="0 0.0 0"/>
    <parent link="realsense/back/camera_depth_frame"/>
    <child link="realsense/back/camera_left_ir_frame"/>
  </joint>
  <link name="realsense/back/camera_left_ir_frame"/>
  <joint name="realsense/back/camera_left_ir_optical_joint" type="fixed">
    <origin rpy="-1.57079632679 0 -1.57079632679" xyz="0 0 0"/>
    <parent link="realsense/back/camera_left_ir_frame"/>
    <child link="realsense/back/camera_left_ir_optical_frame"/>
  </joint>
  <link name="realsense/back/camera_left_ir_optical_frame"/>
  <!-- camera right IR joints and links -->
  <joint name="realsense/back/camera_right_ir_joint" type="fixed">
    <origin rpy="0 0 0" xyz="0 -0.05 0"/>
    <parent link="realsense/back/camera_depth_frame"/>
    <child link="realsense/back/camera_right_ir_frame"/>
  </joint>
  <link name="realsense/back/camera_right_ir_frame"/>
  <joint name="realsense/back/camera_right_ir_optical_joint" type="fixed">
    <origin rpy="-1.57079632679 0 -1.57079632679" xyz="0 0 0"/>
    <parent link="realsense/back/camera_right_ir_frame"/>
    <child link="realsense/back/camera_right_ir_optical_frame"/>
  </joint>
  <link name="realsense/back/camera_right_ir_optical_frame"/>
  <!-- camera color joints and links -->
  <joint name="realsense/back/camera_color_joint" type="fixed">
    <origin rpy="0 0 0" xyz="0 0.015 0"/>
    <parent link="realsense/back/camera_depth_frame"/>
    <child link="realsense/back/camera_color_frame"/>
  </joint>
  <link name="realsense/back/camera_color_frame"/>
  <joint name="realsense/back/camera_color_optical_joint" type="fixed">
    <origin rpy="-1.57079632679 0 -1.57079632679" xyz="0 0 0"/>
    <parent link="realsense/back/camera_color_frame"/>
    <child link="realsense/back/camera_color_optical_frame"/>
  </joint>
  <link name="realsense/back/camera_color_optical_frame"/>
  <gazebo reference="realsense/back/camera_depth_frame">
    <sensor name="realsense/back/camera_depth_frame_depth_sensor" type="depth">
      <always_on>true</always_on>
      <update_rate>30.0</update_rate>
      <camera name="__default__">
        <horizontal_fov>1.047</horizontal_fov>
        <image>
          <format>R8G8B8</format>
          <width>640</width>
          <height>480</height>
        </image>
        <clip>
          <near>0.1</near>
          <far>100</far>
        </clip>
      </camera>
      <plugin filename="libgazebo_ros_openni_kinect.so" name="realsense/back/camera_depth_frame_controller">
        <baseline>0.2</baseline>
        <alwaysOn>true</alwaysOn>
        <updateRate>0</updateRate>
        <cameraName>/realsense/back/camera</cameraName>
        <imageTopicName>/realsense/back/camera/rgb/image_raw</imageTopicName>
        <cameraInfoTopicName>/realsense/back/camera/rgb/camera_info</cameraInfoTopicName>
        <depthImageTopicName>/realsense/back/camera/depth/image_raw</depthImageTopicName>
        <depthImageCameraInfoTopicName>/realsense/back/camera/depth/camera_info</depthImageCameraInfoTopicName>
        <pointCloudTopicName>/realsense/back/camera/depth/points</pointCloudTopicName>
        <frameName>realsense/back/camera_depth_optical_frame</frameName>
        <pointCloudCutoff>0.1</pointCloudCutoff>
        <distortionK1>0.00000001</distortionK1>
        <distortionK2>0.00000001</distortionK2>
        <distortionK3>0.00000001</distortionK3>
        <distortionT1>0.00000001</distortionT1>
        <distortionT2>0.00000001</distortionT2>
        <CxPrime>0</CxPrime>
        <Cx>0</Cx>
        <Cy>0</Cy>
        <focalLength>0</focalLength>
        <hackBaseline>0</hackBaseline>
      </plugin>
    </sensor>
    <material value="Gazebo/Red"/>
  </gazebo>
  <!--xacro:VLP-16 parent="trunk">
		<origin xyz="-0.349709 0.0 0.277910" rpy="0 ${-15*PI/180} 0"/> 
	    </xacro:VLP-16-->
  <!--xacro:new_calibration_plate_xacro parent="lf_lowerleg"-->
  <!--origin xyz="0.393 -0.023 -0.1" rpy="${PI/2} 0 0"/-->
  <!--origin xyz="0.3588117 -0.0304911 -0.2088889" rpy="${PI/2} 0 -0.137881"/>
  </xacro:new_calibration_plate_xacro-->
</robot>
